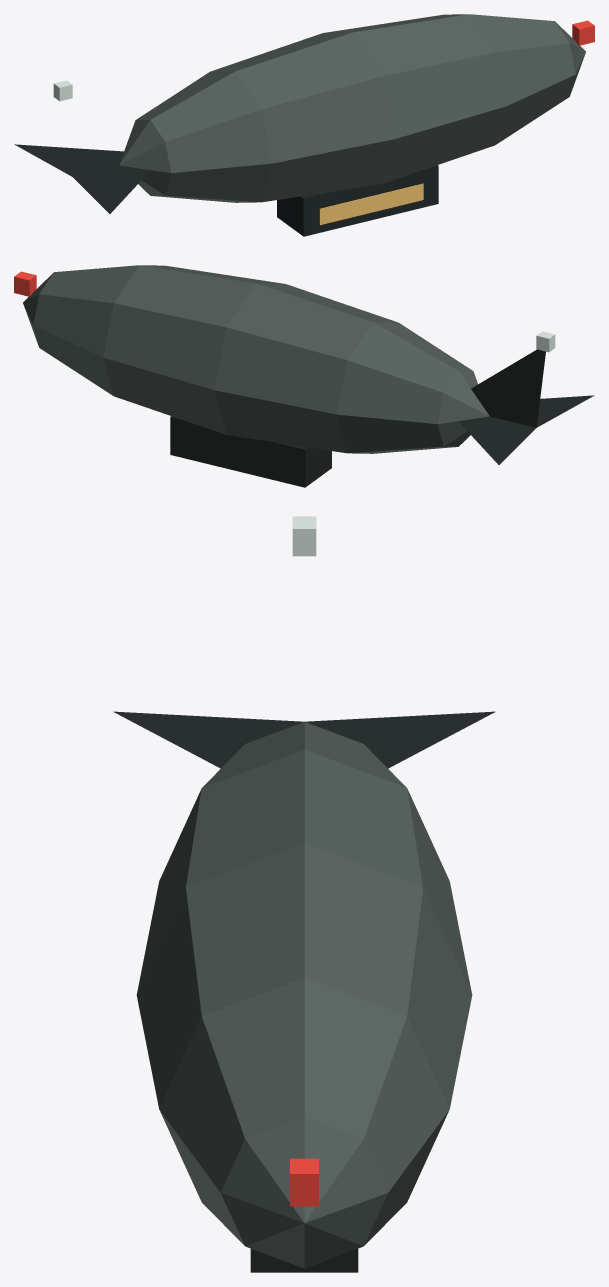
Rendered from airship.obj.
The picture shows the model from 3 angles, top to bottom: view 1: azimuth 30°, elevation 25°; view 2: azimuth 150°, elevation 25°; view 3: azimuth 270°, elevation 25°; orthographic projection. The views are drawn at different scales.
Bounding box in the file's own units: 10.3 × 3.65 × 3.2.
